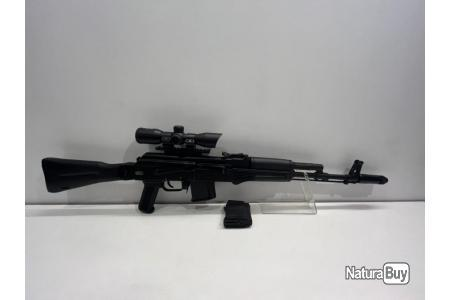larga: (41, 125, 388, 214)
